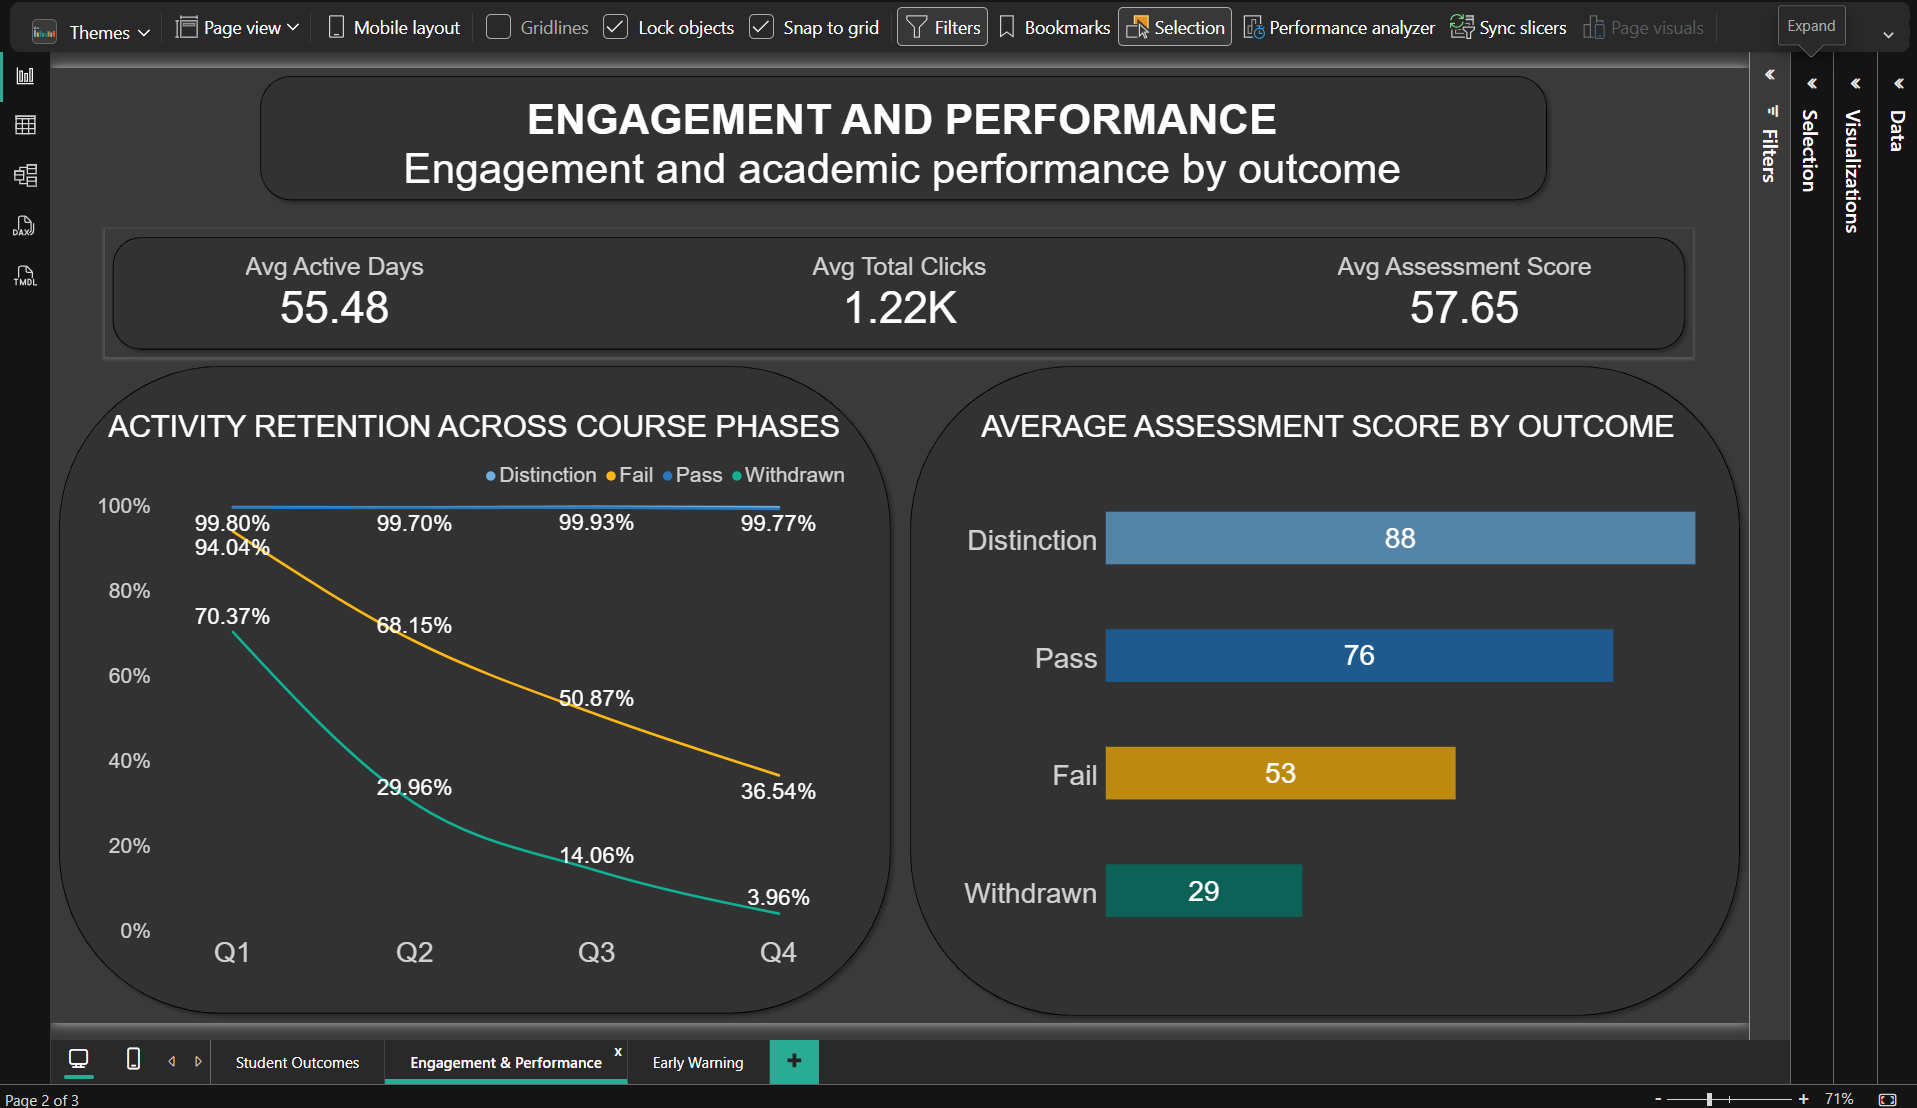

This screenshot's page, from the dashboard's own definition file:
{"tool":"powerbi","page":{"name":" Student Outcomes ","canvas":[1920,1080],"ordinal":1},"visuals":[{"type":"group","id":"g1","title":"Background","box":[0,0,1920,1080.4],"z":0},{"type":"shape","box":[963.5,327.4,956.5,753],"z":0,"group":"g1"},{"type":"textbox","box":[226.8,30.4,1473.3,128.6],"z":1000},{"type":"shape","box":[0,327.4,958.8,750.7],"z":1000,"group":"g1"},{"type":"cardVisual","fields":{"Data":["Student Analysis._Avg Active Days","Student Analysis._Avg Total Clicks","Student Analysis._Avg Assessment Score"]},"box":[4.7,170.7,1911.6,144.9],"z":2000},{"type":"shape","box":[60.8,182.4,1796.1,119.3],"z":2000,"group":"g1"},{"type":"shape","box":[227.5,0,1473.4,158.6],"z":3000,"group":"g1"},{"type":"lineChart","title":"  ACTIVITY RETENTION ACROSS COURSE PHASES","fields":{"Category":["Course Phases.Phase"],"Y":["Course Phases._Active Student Rate"],"Series":["Student Analysis.final_result"]},"box":[35.1,371.8,886.3,664.2],"z":3000},{"type":"clusteredBarChart","title":"AVERAGE ASSESSMENT SCORE BY OUTCOME","fields":{"Category":["Student Analysis.final_result"],"Y":["Student Analysis._Avg Assessment Score"]},"box":[1000.9,371.8,886.3,664.2],"z":4000}]}

Visuals, with their boxes on the page's 1920x1080 design canvas (x1, y1, x2, y2). These are canvas units, not pixel positions in the 1917x1108 screenshot, which may show the page scaled, cropped or inside an application window:
"Background" group: BBox(0, 0, 1920, 1080)
shape: BBox(964, 327, 1920, 1080)
textbox: BBox(227, 30, 1700, 159)
shape: BBox(0, 327, 959, 1078)
cardVisual - Student Analysis._Avg Active Days x Student Analysis._Avg Total Clicks: BBox(5, 171, 1916, 316)
shape: BBox(61, 182, 1857, 302)
shape: BBox(228, 0, 1701, 159)
"  ACTIVITY RETENTION ACROSS COURSE PHASES" lineChart: BBox(35, 372, 921, 1036)
"AVERAGE ASSESSMENT SCORE BY OUTCOME" clusteredBarChart: BBox(1001, 372, 1887, 1036)
